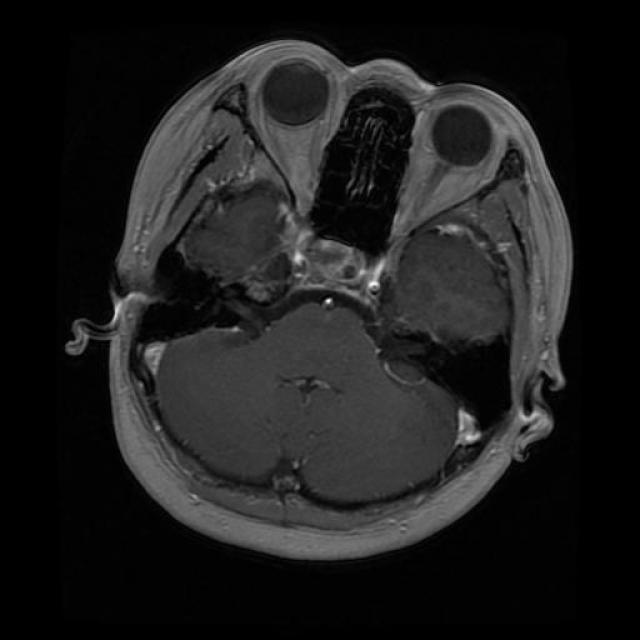pituitary: (275, 230, 397, 316)
